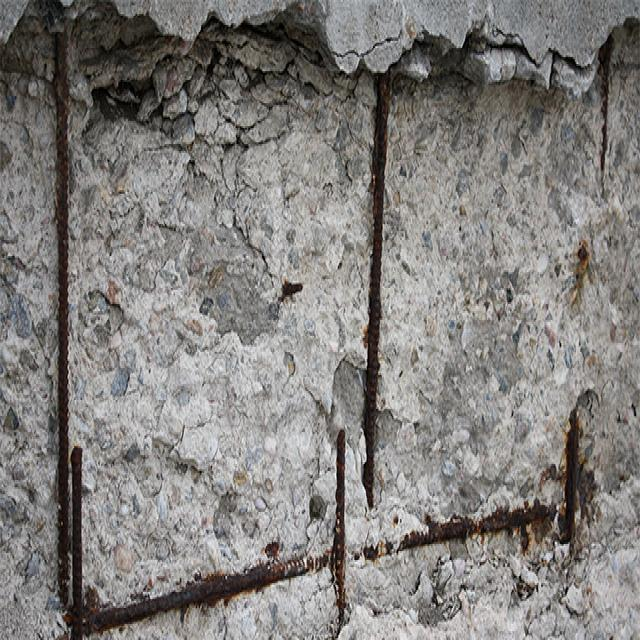spalling: (0, 0, 639, 639)
stain_mould: (73, 447, 559, 634), (367, 72, 389, 506), (56, 32, 68, 607)
